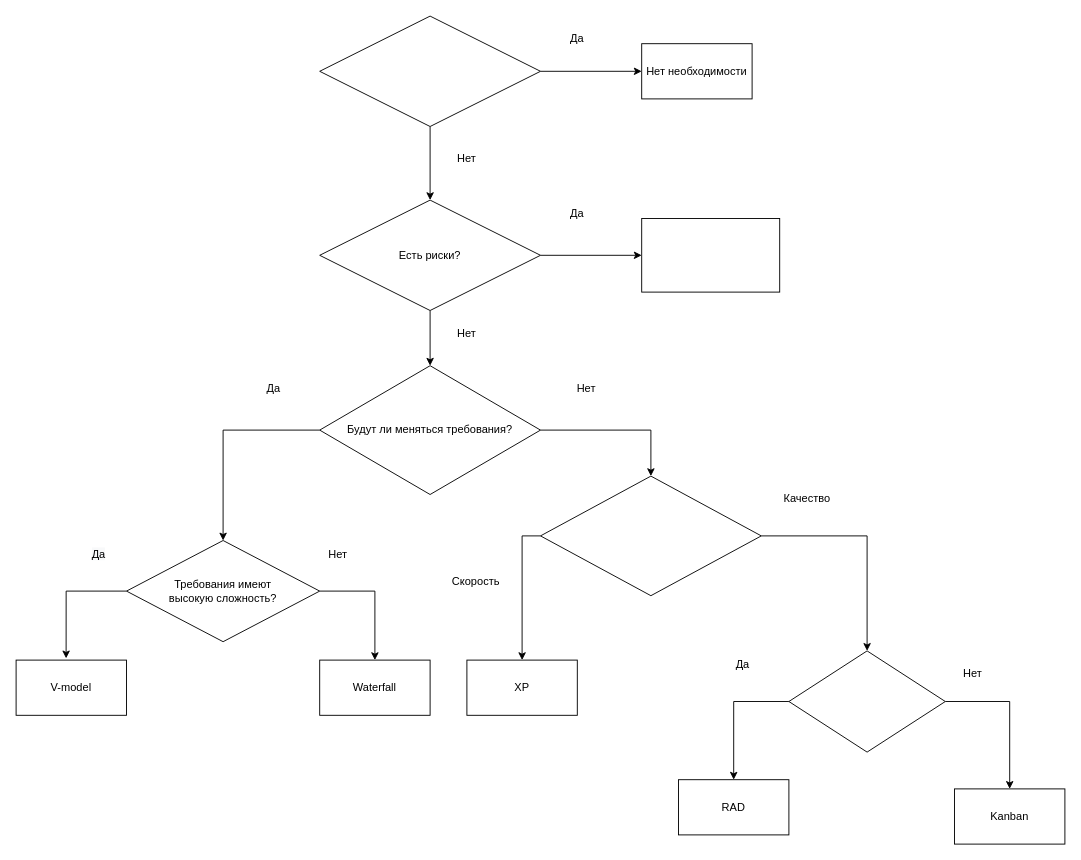
This 1081x860 diagram has some shape labels left out. Here are the shapes that lost their labels. From the top down, the box of each, then its label:
(319, 15, 540, 126): Стартап?
(641, 218, 780, 292): Spiral
(540, 475, 761, 596): Скорость или качество?
(788, 650, 945, 752): Большая длительность?
